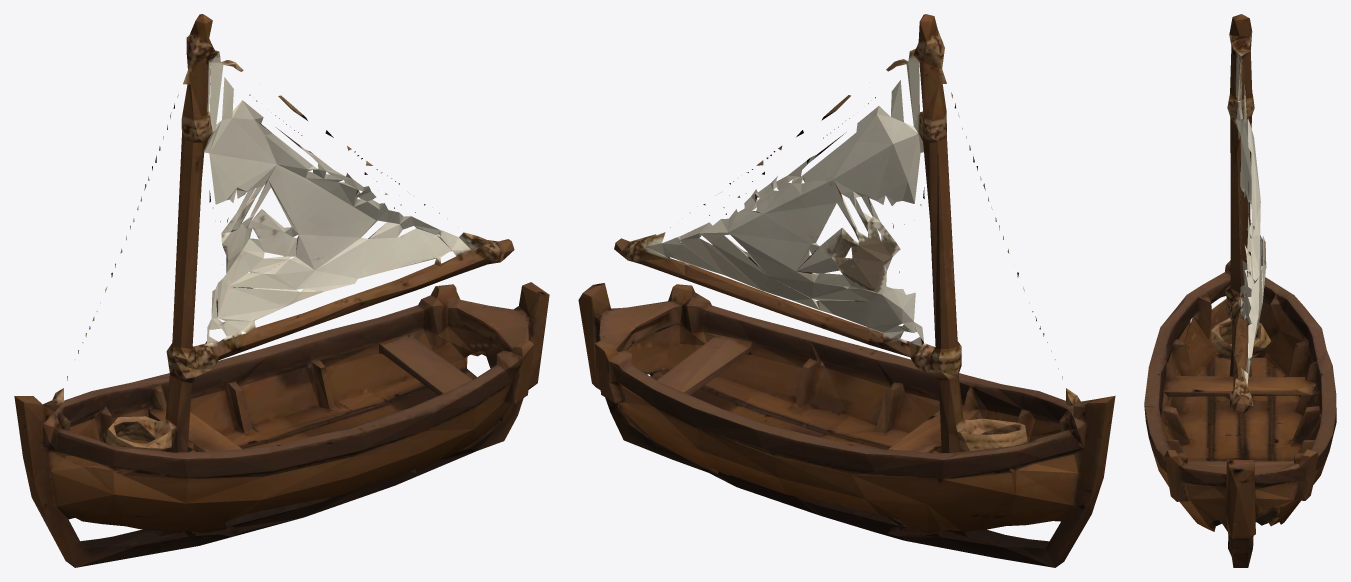
The model's file is sailboat.tex.glb.
3 renders of one model, left to right at view 1: azimuth 30°, elevation 25°; view 2: azimuth 150°, elevation 25°; view 3: azimuth 270°, elevation 25°, orthographic. The views are drawn at different scales.
Visible parts, largest first — view 1: sailboat; view 2: sailboat; view 3: sailboat.
Boxes of the visible parts, box(x1,y1,x2,y2) form: sailboat: box(14, 14, 549, 567); sailboat: box(578, 14, 1115, 567); sailboat: box(1144, 14, 1336, 567).
Size of the model in its own units: 6.49 by 6.21 by 2.38.
1 material, 1 textured.
